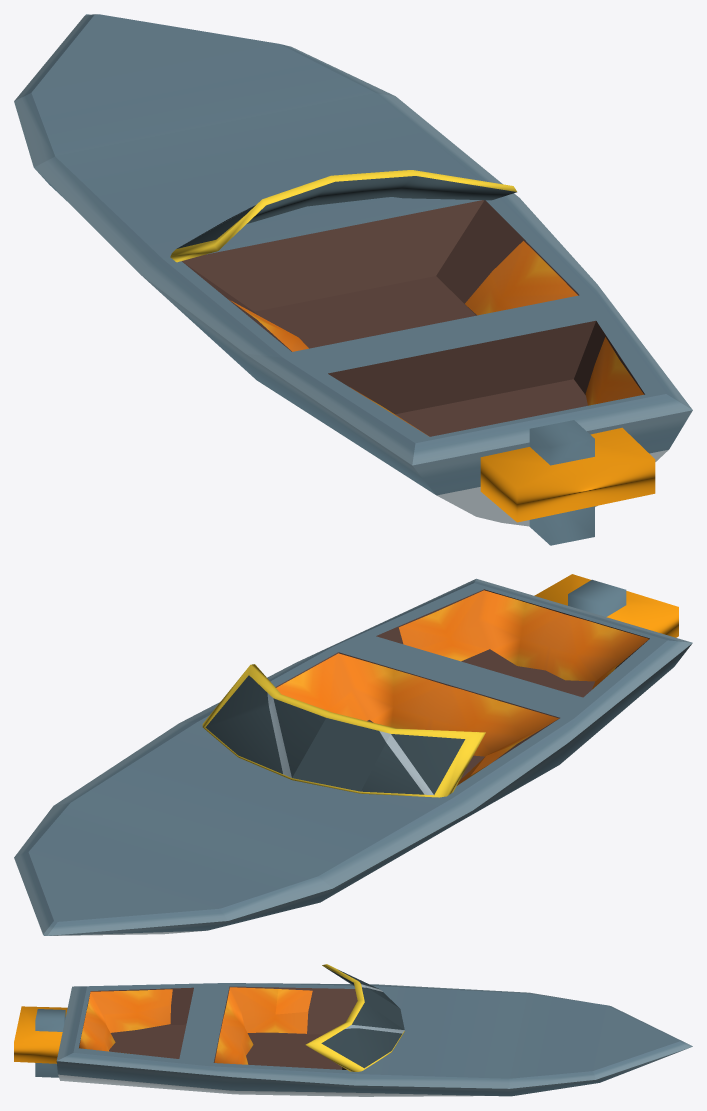
The model's file is SHIP_LV2.FBX.
3 views of the same model, one above another, from view 1: azimuth 30°, elevation 25°; view 2: azimuth 150°, elevation 25°; view 3: azimuth 270°, elevation 25° (orthographic). The views are drawn at different scales.
Parts seen in each view (by area): view 1: LV_2; view 2: LV_2; view 3: LV_2.
Part boxes in pixels (box(x1,y1,x2,y2)): LV_2: box(14, 14, 692, 545); LV_2: box(14, 574, 692, 935); LV_2: box(14, 964, 692, 1096).
Bounding box in the file's own units: 6.05 × 2.32 × 16.51.
Materials: 1 (1 with a texture image).
